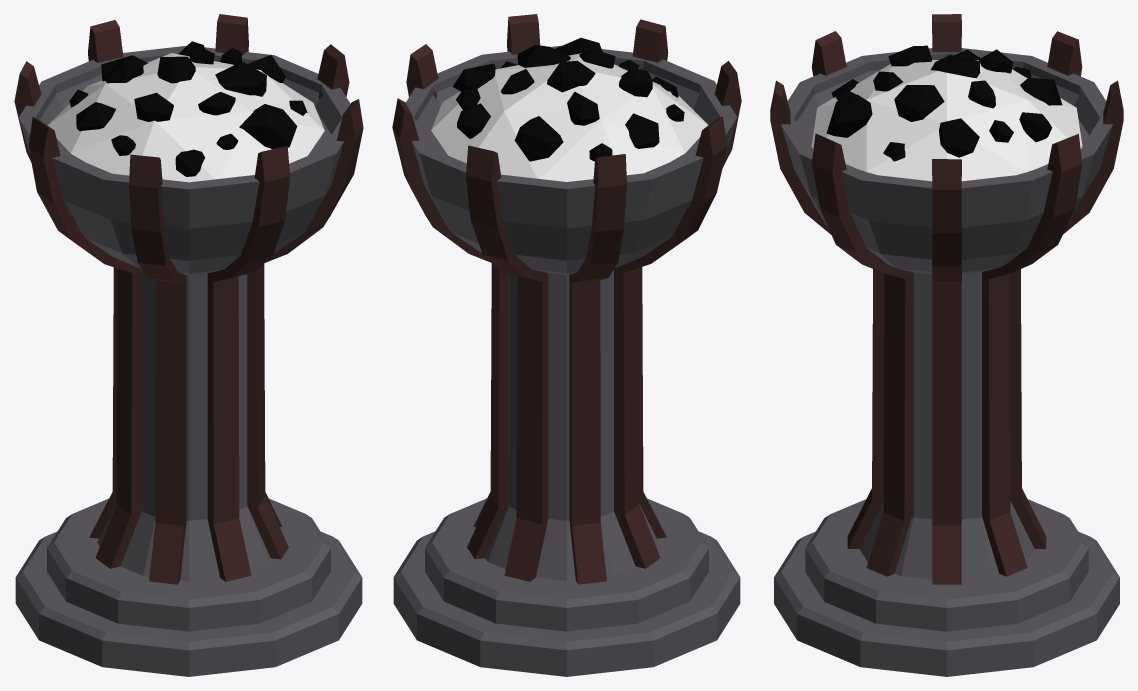
Rendered from Brazier.fbx.
The picture shows the model from 3 angles, left to right: view 1: azimuth 30°, elevation 25°; view 2: azimuth 150°, elevation 25°; view 3: azimuth 270°, elevation 25°; orthographic projection.
Visible parts, largest first — view 1: BaseStone, Cage.001, CoalpitBase, Coal .012; view 2: BaseStone, Cage.001, CoalpitBase, Coal .012; view 3: BaseStone, Cage.001, CoalpitBase, Coal .012.
Boxes of the visible parts, x1,y1,x2,y2 form: BaseStone: (15, 45, 362, 676); Cage.001: (14, 14, 363, 584); CoalpitBase: (47, 53, 324, 182); Coal .012: (69, 41, 307, 176); BaseStone: (393, 45, 740, 676); Cage.001: (392, 14, 741, 584); CoalpitBase: (431, 53, 708, 181); Coal .012: (452, 37, 684, 161); BaseStone: (774, 48, 1119, 676); Cage.001: (770, 14, 1123, 584); CoalpitBase: (811, 60, 1082, 181); Coal .012: (826, 45, 1062, 161).
Size of the model in its own units: 283 by 479 by 283.
